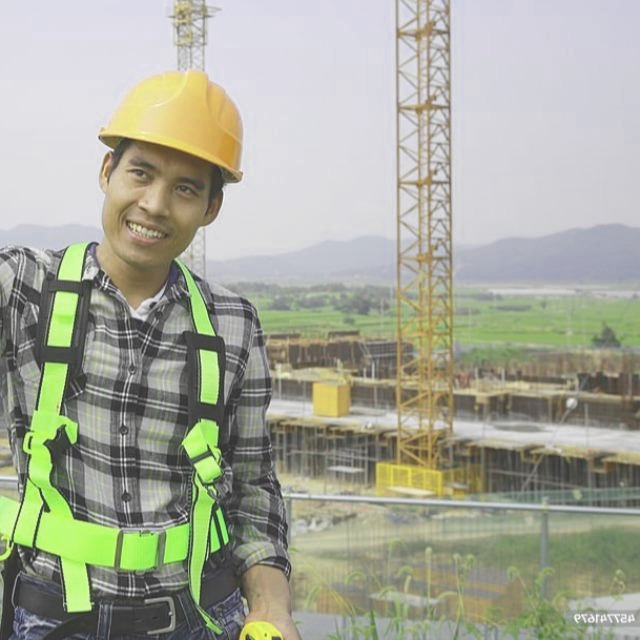Con_Casco: (93, 66, 245, 266)
Con_Chaleco: (1, 251, 251, 580)
